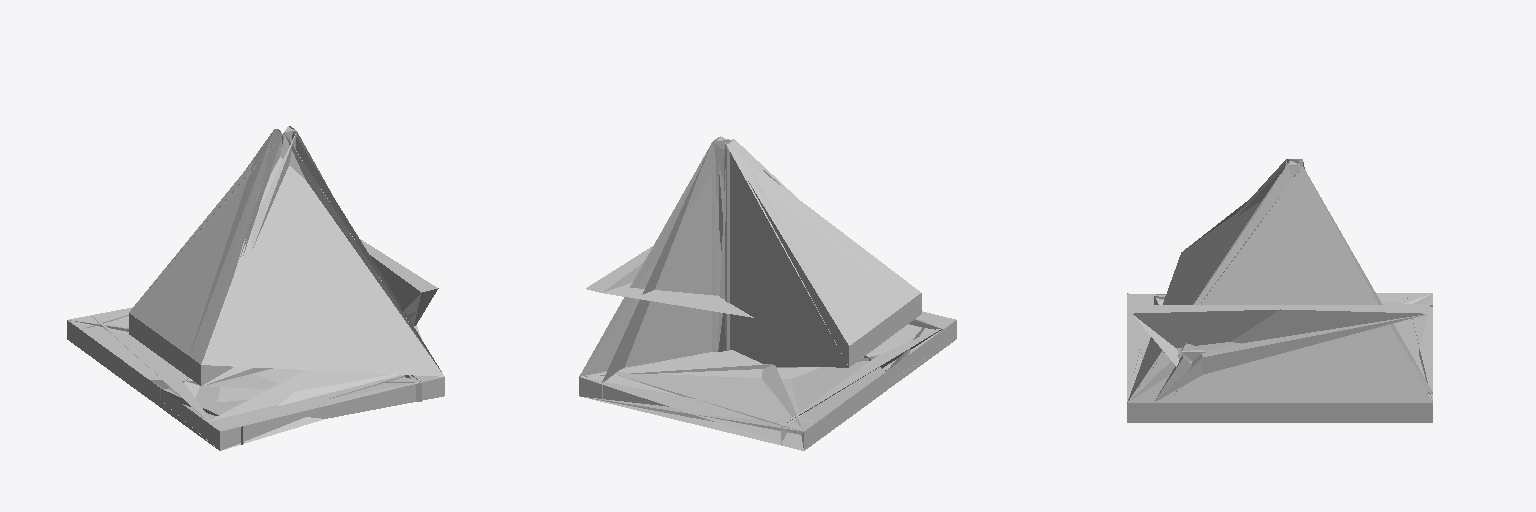
The model's file is Haus_06_OBJ.obj.
The picture shows the model from 3 angles: view 1: azimuth 30°, elevation 25°; view 2: azimuth 150°, elevation 25°; view 3: azimuth 270°, elevation 25°; orthographic projection.
Visible parts, largest first — view 1: Line011, Line009, Line013, Box007, Tube002; view 2: Line009, Line011, Tube002, Line013, Box007; view 3: Line011, Line009.
Part boxes in pixels (x1,y1,x2,y2): Line011: (131, 126, 444, 388); Line009: (67, 126, 444, 450); Line013: (129, 130, 273, 385); Box007: (189, 134, 272, 381); Tube002: (130, 188, 272, 385); Line009: (579, 137, 956, 450); Line011: (579, 136, 921, 376); Tube002: (730, 155, 918, 364); Line013: (724, 146, 921, 364); Box007: (729, 147, 921, 312); Line011: (1127, 159, 1432, 422); Line009: (1127, 159, 1432, 402).
Size of the model in its own units: 1088 by 1034 by 1281.